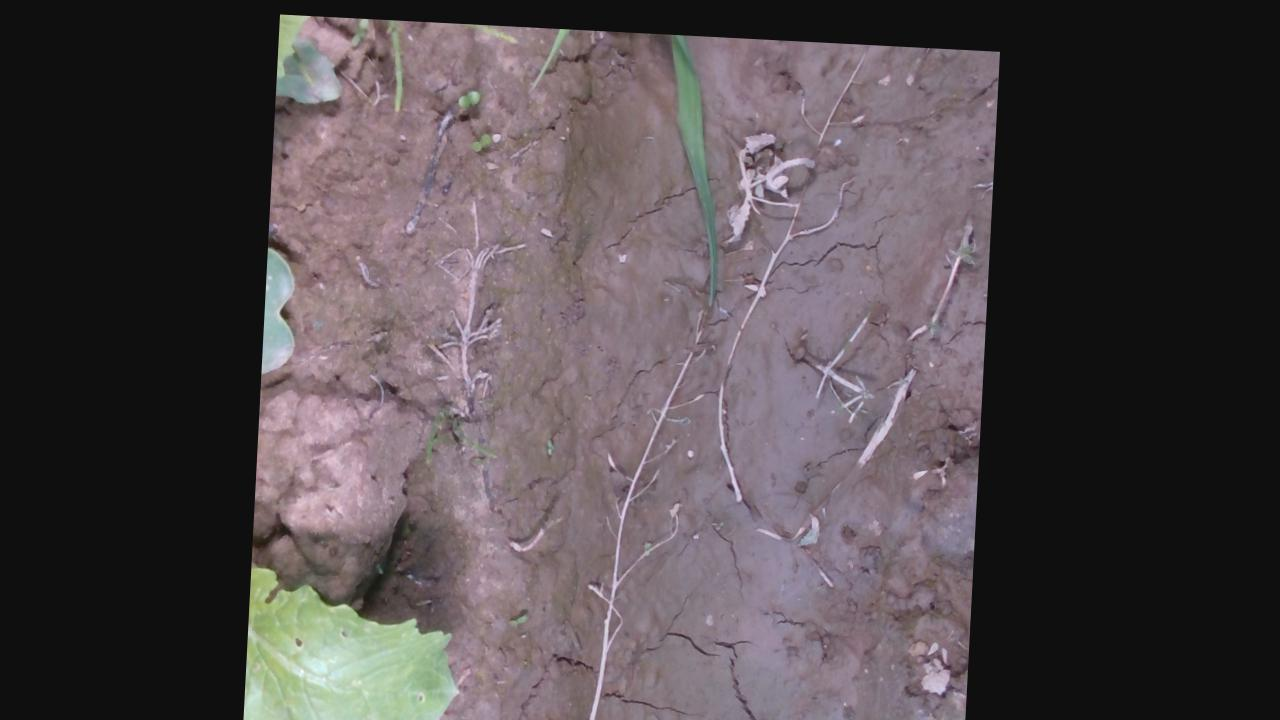weed: (348, 14, 369, 46), (455, 84, 481, 107), (472, 127, 492, 148), (512, 608, 537, 624), (550, 430, 558, 450)
